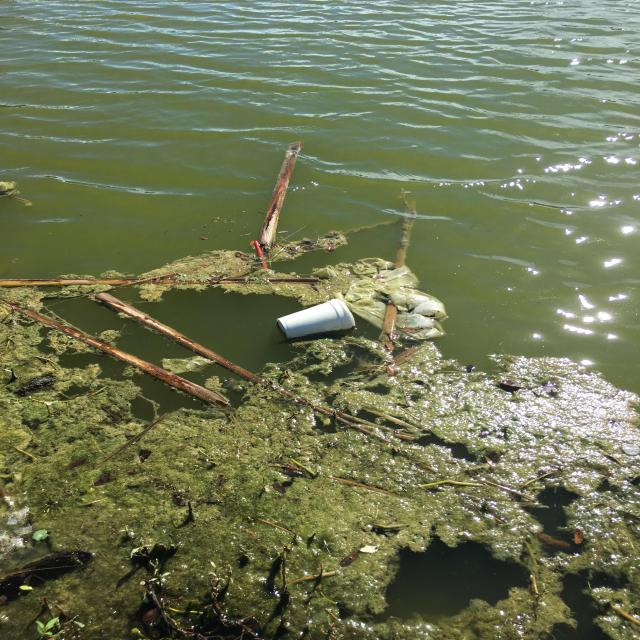litter: (393, 211, 451, 270)
